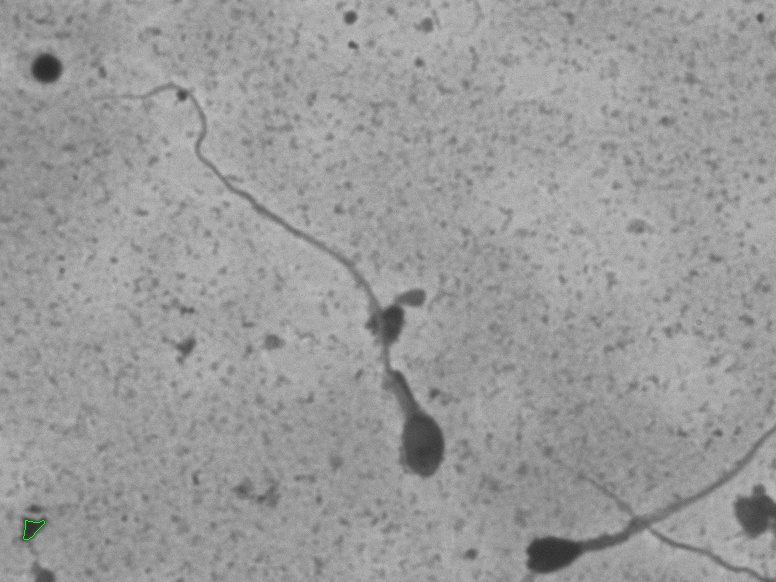Abnormal: (105, 66, 455, 502)
